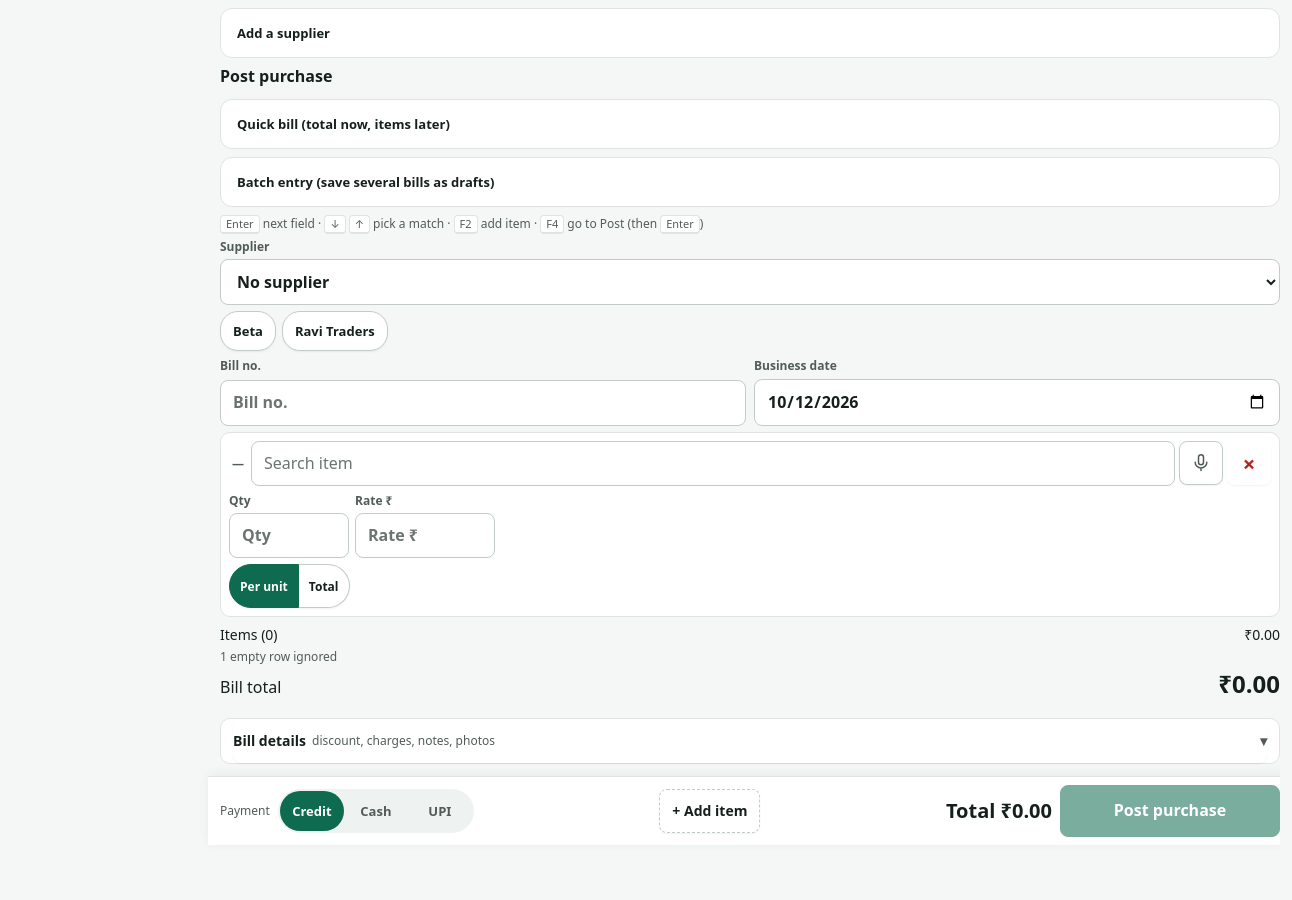
Test: usual items: a supplier switch during the read adds nothing; a failed read says so
Check: the date field named "date" holds "2026-10-12", box [754, 378, 1280, 426]
Check: the element that starts with "Qty" is enabled, box [220, 426, 1280, 710]
Select "Ravi Traders" in the dropdown named "partyId" at (750, 282), box [220, 259, 1280, 305]
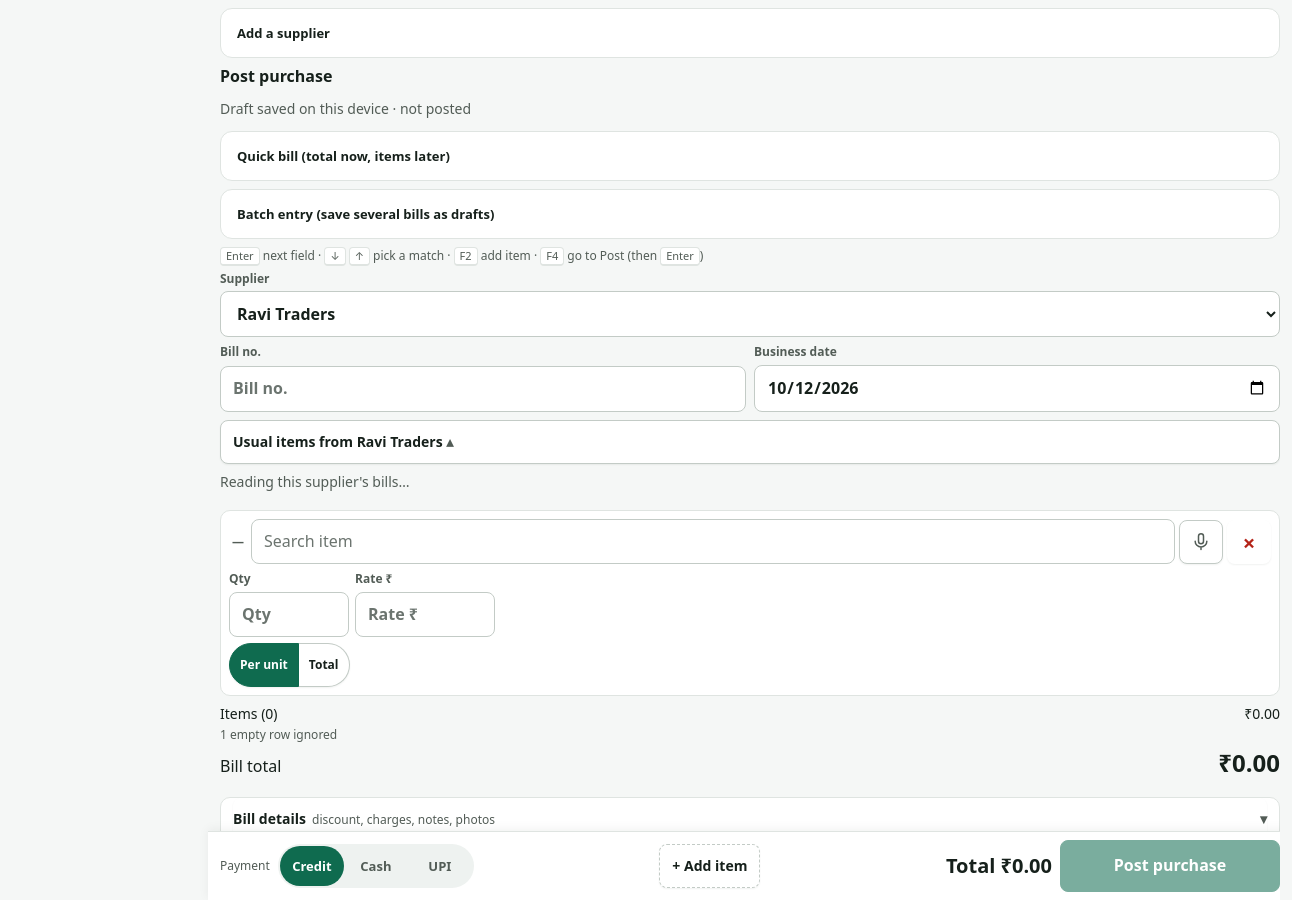
Check: the text "Reading this supplier's bills…" is shown, box [220, 472, 410, 491]
Select "Beta" in the dropdown named "partyId" at (750, 314), box [220, 291, 1280, 337]
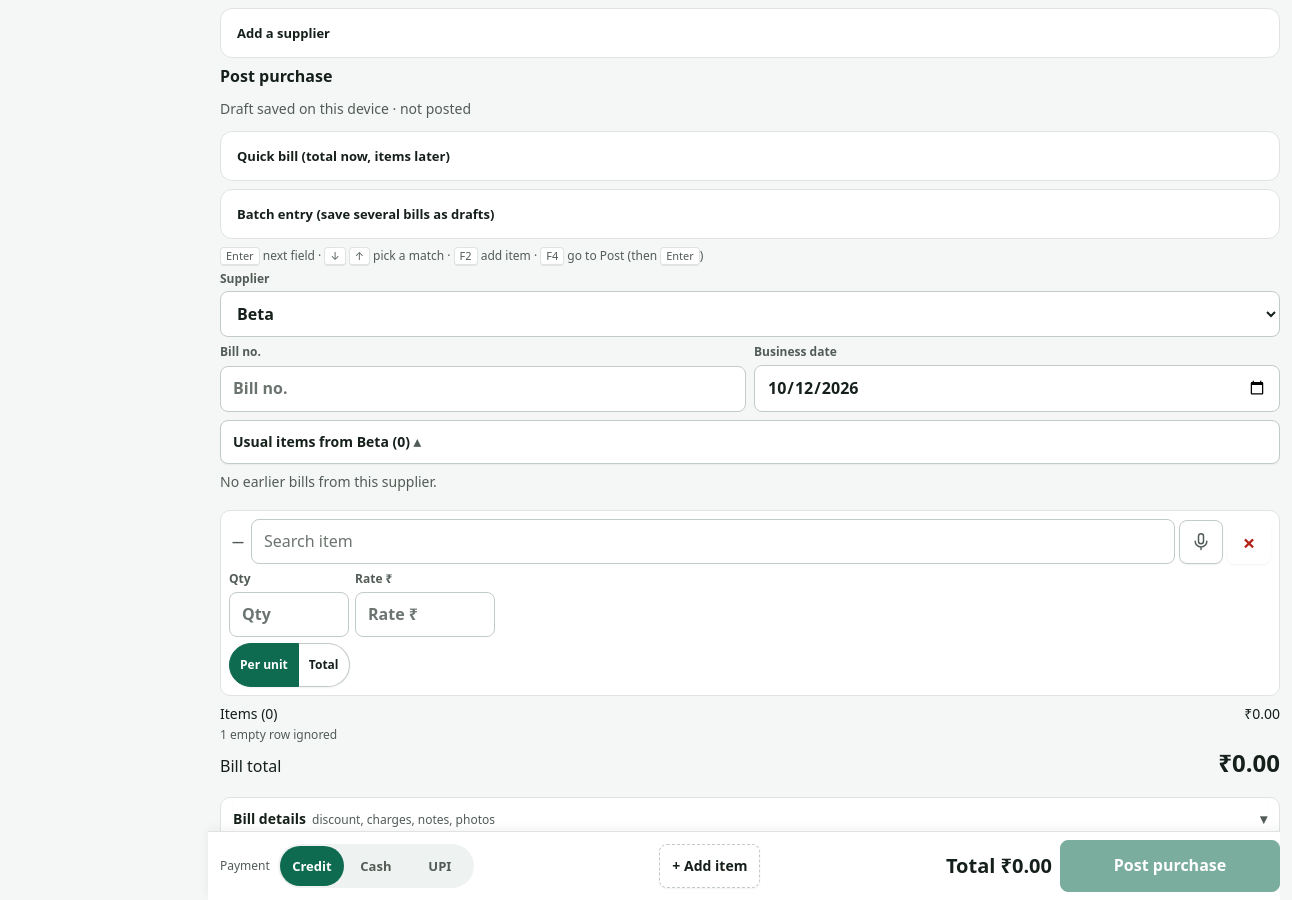
Check: the text "No earlier bills from this supplier." is shown, box [220, 472, 437, 491]
Check: the text "Usual items from Beta" is shown, box [220, 420, 1280, 464]
Select "Ravi Traders" in the dropdown named "partyId" at (750, 314), box [220, 291, 1280, 337]
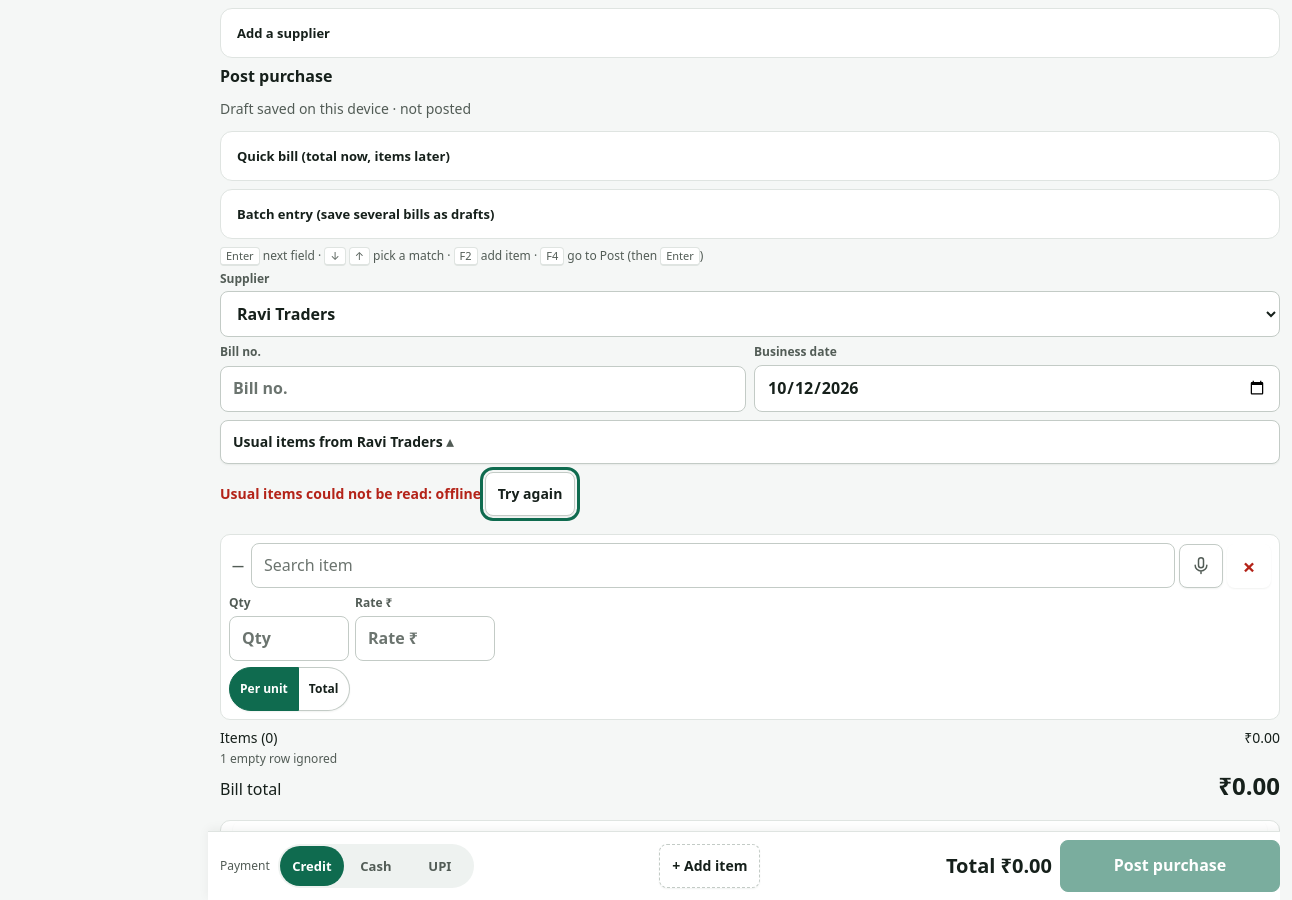
Check: the text "Usual items could not be read: offline" is shown, box [220, 472, 575, 516]
Click the button "Try again" at (530, 494), box [485, 472, 575, 516]
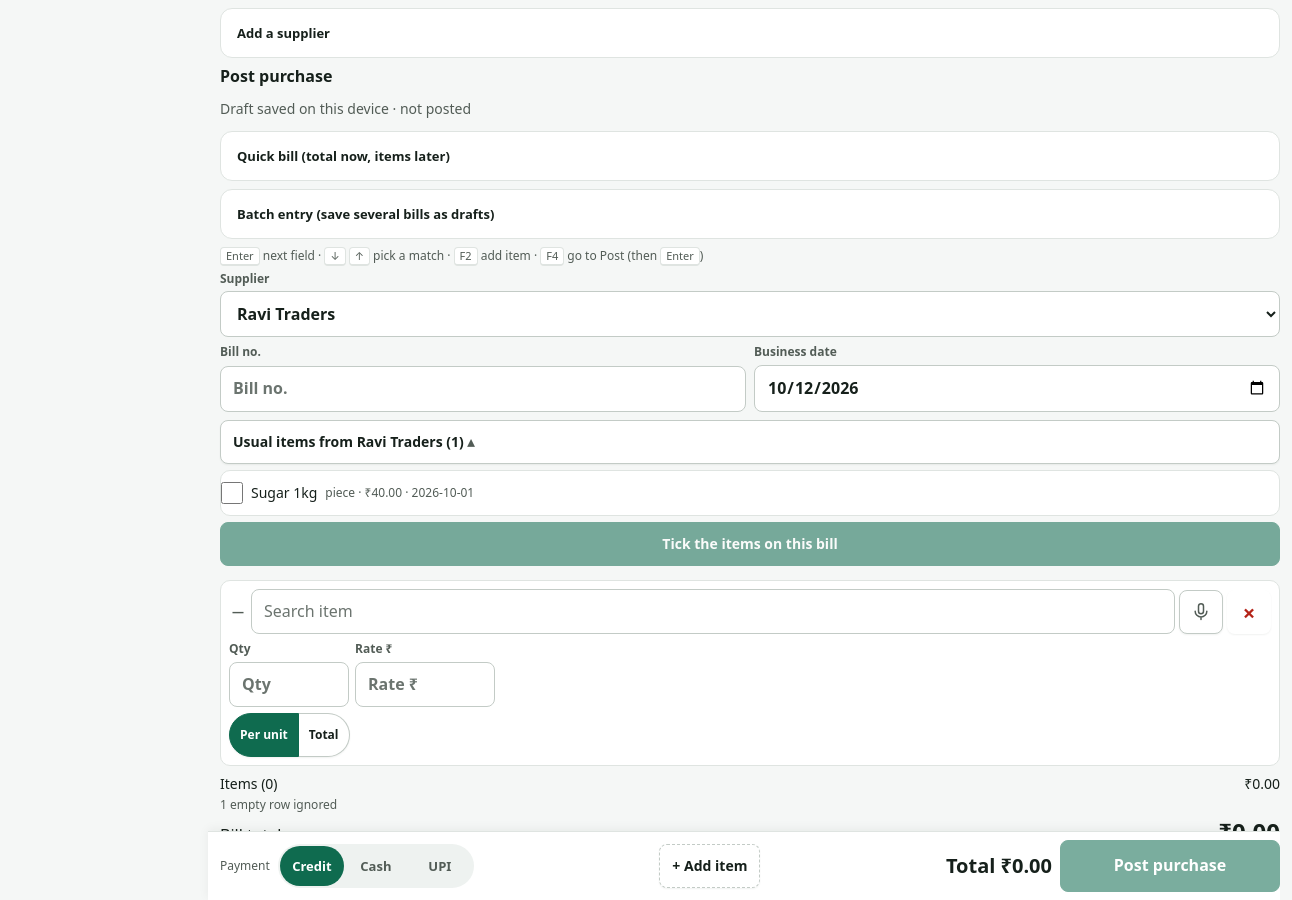
Check: the number of labels with class "usual-row" is 1, box [221, 482, 474, 504]
